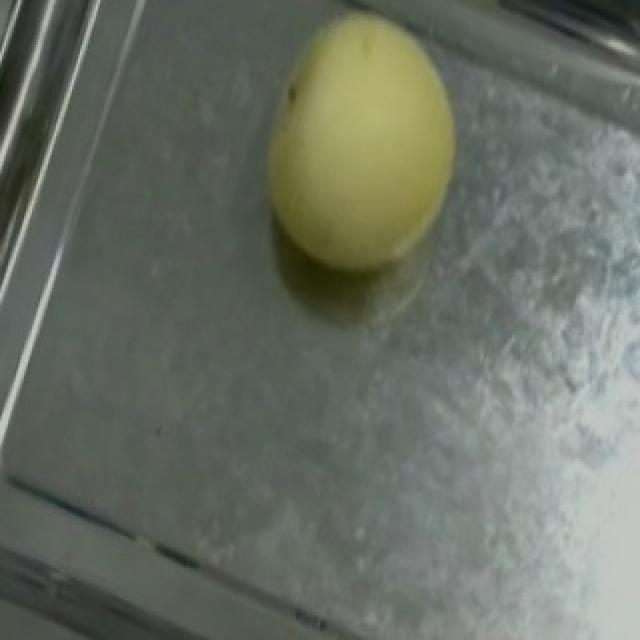Fruit: (216, 0, 502, 313)
